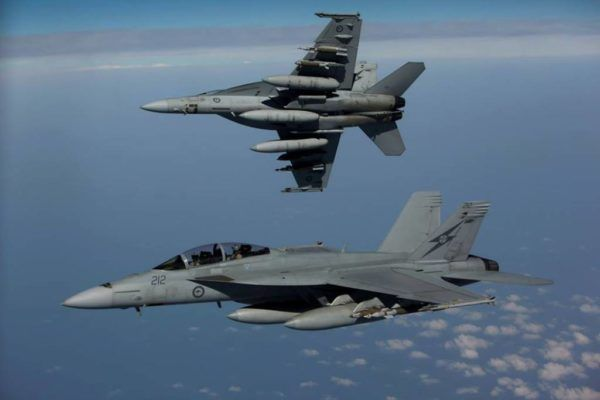Aeronef_militaire: (56, 187, 557, 337), (133, 8, 438, 196)
